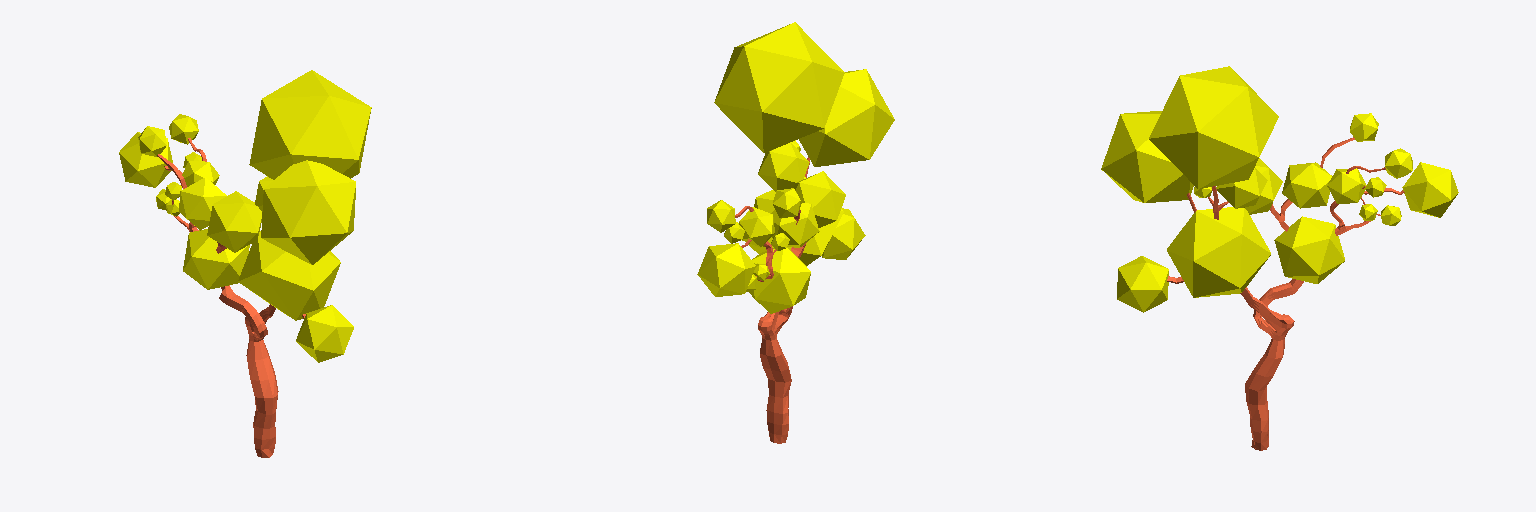
Rendered from Ipe.obj.
3 views of the same model, side by side, from view 1: azimuth 30°, elevation 25°; view 2: azimuth 150°, elevation 25°; view 3: azimuth 270°, elevation 25° (orthographic).
Visible parts, largest first — view 1: Ipe_v1_Cylinder.002; view 2: Ipe_v1_Cylinder.002; view 3: Ipe_v1_Cylinder.002.
Part boxes in pixels (x1,y1,x2,y2): Ipe_v1_Cylinder.002: (119, 70, 371, 457); Ipe_v1_Cylinder.002: (697, 22, 894, 443); Ipe_v1_Cylinder.002: (1101, 66, 1458, 450).
Bounding box in the file's own units: 1.52 × 3.73 × 3.16.